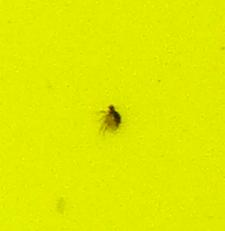Brachycera: (100, 100, 125, 131)
